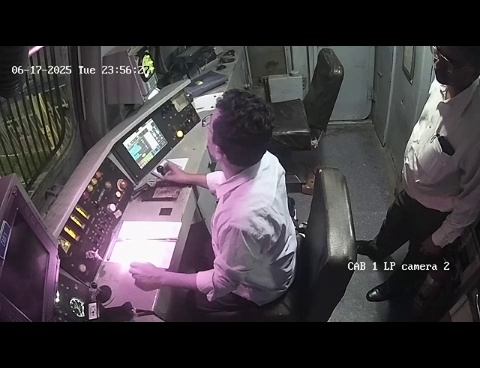horn_inactive: (78, 276, 120, 313)
